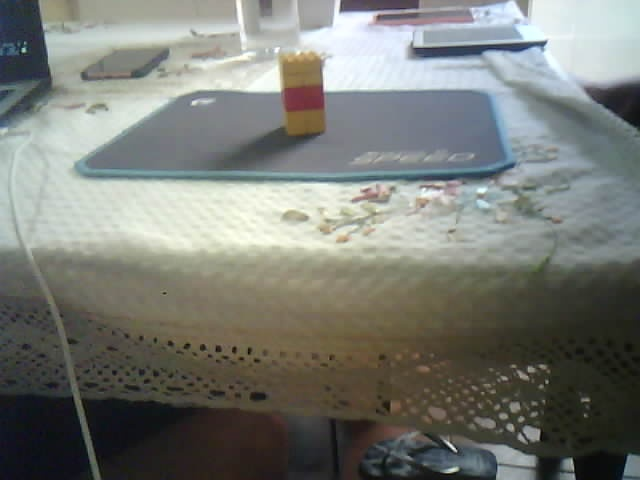lego: (276, 51, 327, 137)
